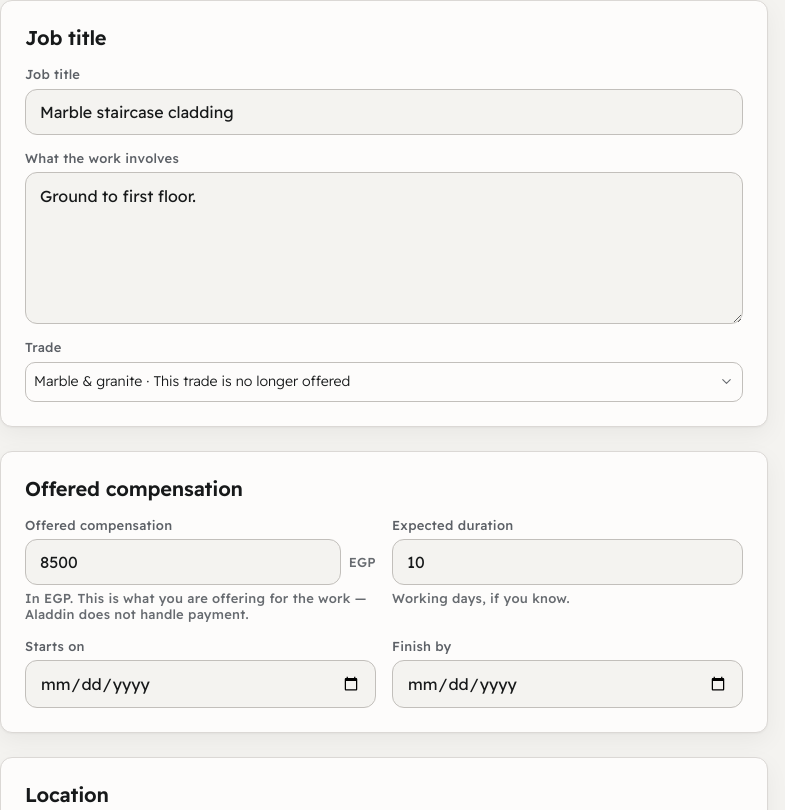
Test: JobForm and a retired trade › marks it as history rather than presenting it as a current choice
Click the button with id "tradeKey": (192,381) [25, 362, 743, 402]
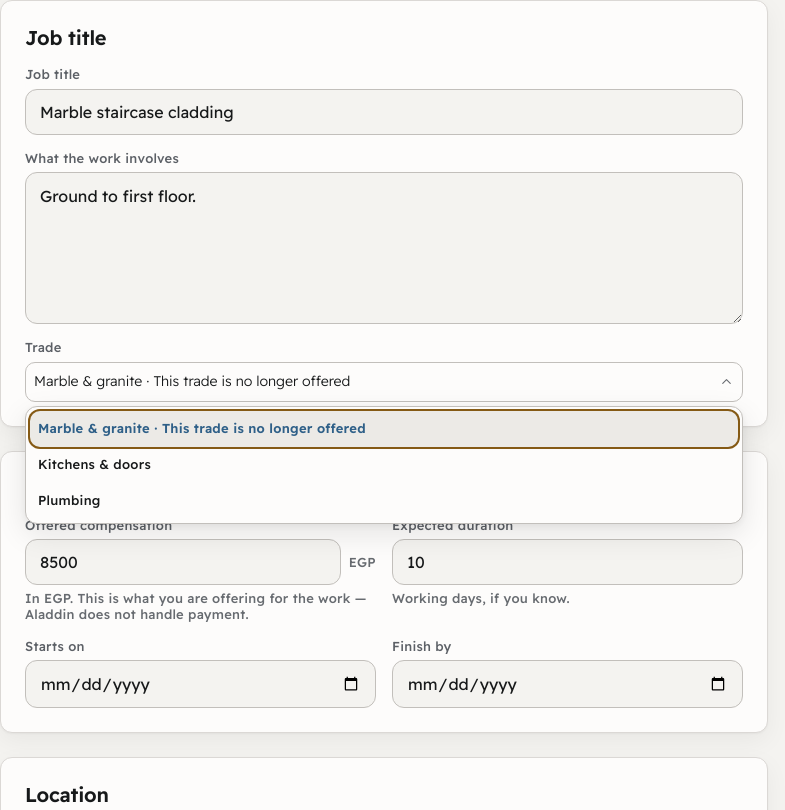
Expected: the option "Marble & granite · This trade is no longer offered" is shown, [30, 411, 738, 447]
